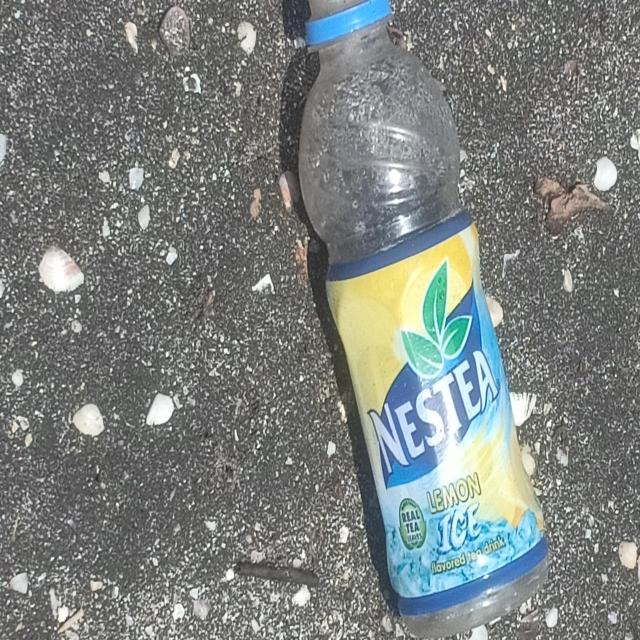plastic_waste: (300, 1, 550, 637)
